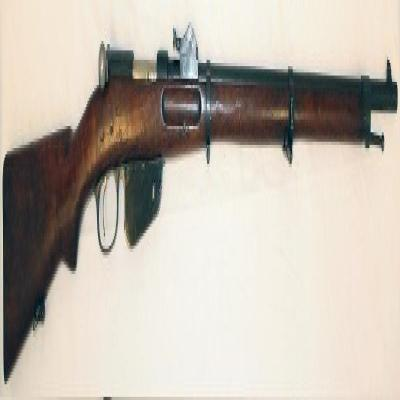weapon: (2, 25, 400, 381)
